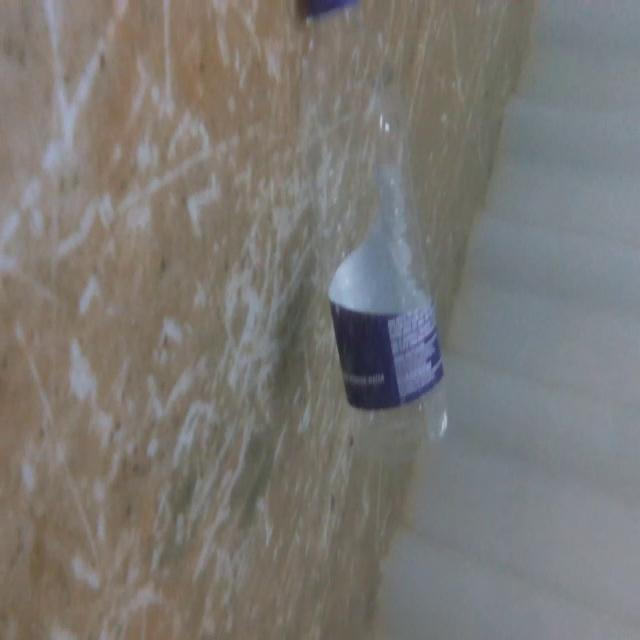plastic bottle: (281, 2, 459, 462)
